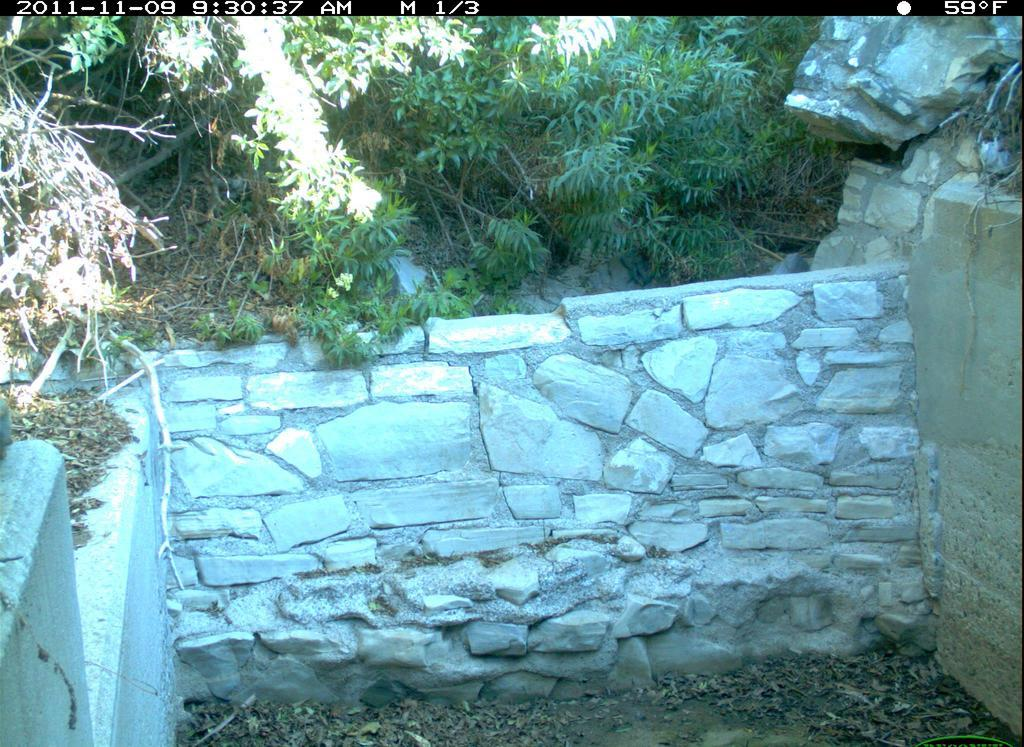squirrel: (1, 395, 19, 470)
